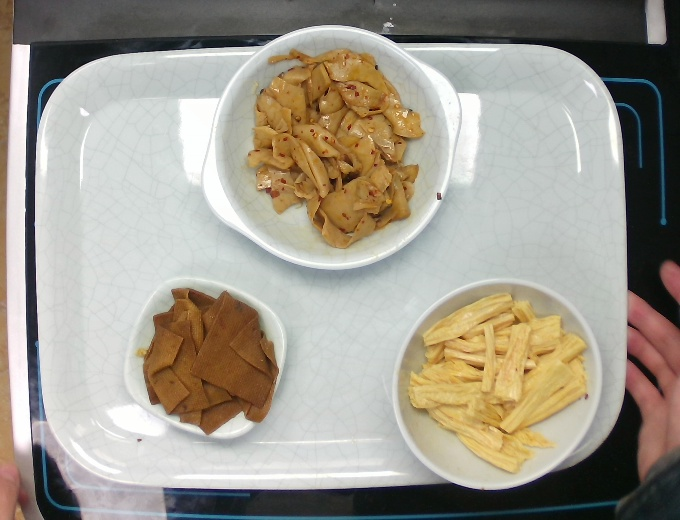JYsf-Fan_Wan: (390, 278, 603, 490)
JYsf-Shuang_Er_Wan: (196, 27, 465, 276)
JYsf-Si_Fang_Die: (121, 272, 286, 439)
